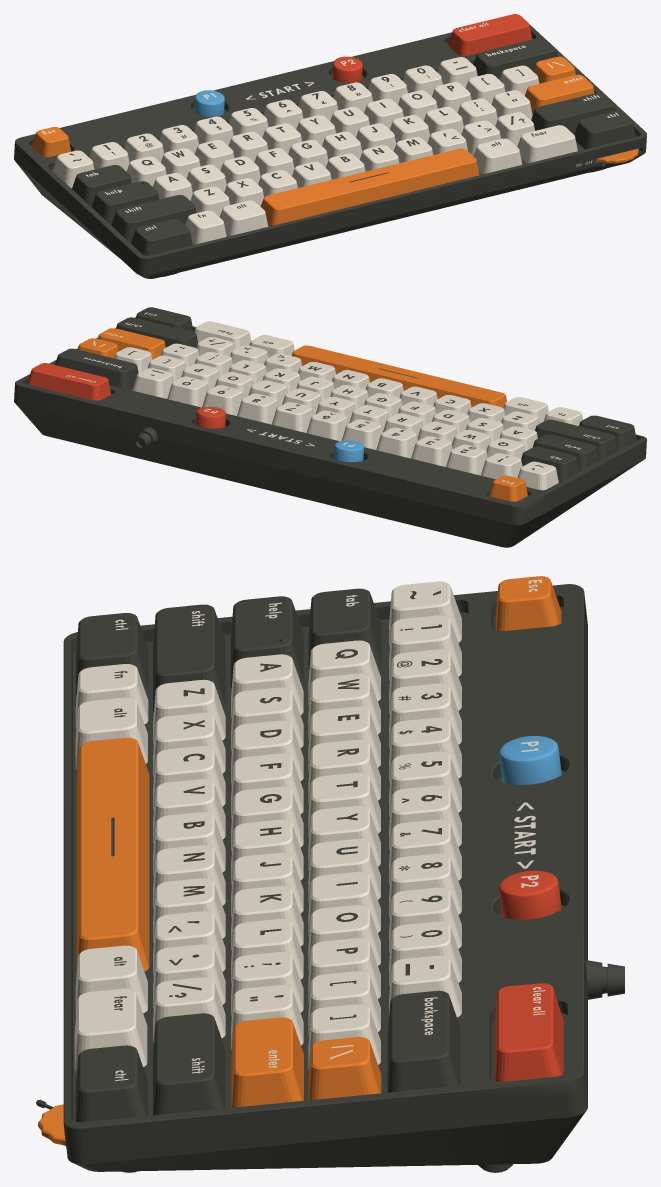
The model's file is Keyboard Final 4.fbx.
3 views of the same model, one above another, from view 1: azimuth 30°, elevation 25°; view 2: azimuth 150°, elevation 25°; view 3: azimuth 270°, elevation 25° (orthographic). The views are drawn at different scales.
Parts seen in each view (by area): view 1: Cube.216, Cube.153, Cube.003, Cube.215, Cube.156, Cube.004, Cube.012, Cube.010, Cube.020, Cube.018, Cube.016, Cube.005 (+54 smaller); view 2: Cube.153, Cube.216, Cube.003, Cube.156, Cube.012, Cube.004, Cube.215, Cube.010, Cube.005, Cube.006, Cube.011, Cube.016 (+54 smaller); view 3: Cube.216, Cube.153, Cube.001, Cube.003, Cube.215, Cube.012, Cube.010, Cube.156, Cube.011, Cube.004, Cube.020, Cube.005 (+57 smaller).
Boxes of the visible parts, x1,y1,x2,y2 form: Cube.216: [14, 24, 544, 172]; Cube.153: [14, 141, 646, 278]; Cube.003: [260, 148, 479, 226]; Cube.215: [40, 49, 646, 264]; Cube.156: [448, 14, 532, 56]; Cube.004: [111, 195, 196, 242]; Cube.012: [473, 38, 557, 79]; Cube.010: [531, 92, 615, 134]; Cube.020: [574, 110, 635, 149]; Cube.018: [517, 125, 577, 163]; Cube.016: [131, 219, 192, 255]; Cube.005: [91, 181, 159, 224]; Cube.153: [14, 391, 646, 547]; Cube.216: [14, 374, 548, 513]; Cube.003: [291, 345, 506, 407]; Cube.156: [27, 363, 111, 400]; Cube.012: [55, 348, 138, 390]; Cube.004: [535, 419, 617, 460]; Cube.215: [49, 317, 646, 499]; Cube.010: [116, 317, 197, 347]; Cube.005: [532, 434, 598, 471]; Cube.006: [521, 446, 579, 482]; Cube.011: [97, 328, 165, 359]; Cube.016: [579, 415, 636, 450]; Cube.216: [468, 584, 585, 1103]; Cube.153: [65, 606, 624, 1172]; Cube.001: [73, 612, 468, 1121]; Cube.003: [76, 737, 149, 971]; Cube.215: [63, 593, 468, 1141]; Cube.012: [387, 990, 460, 1092]; Cube.010: [153, 1013, 225, 1115]; Cube.156: [495, 983, 563, 1081]; Cube.011: [231, 1017, 303, 1107]; Cube.004: [153, 604, 225, 711]; Cube.020: [75, 1045, 148, 1122]; Cube.005: [230, 596, 303, 687].
Bounding box in the file's own units: 931 × 1859 × 247.
